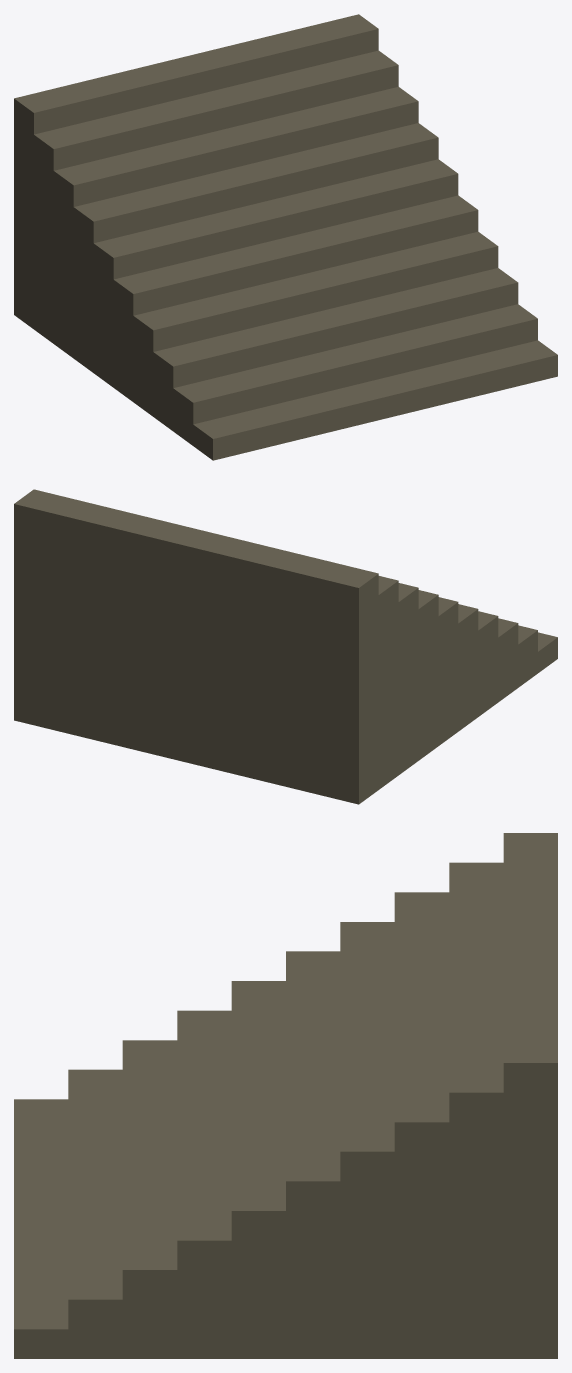
File: Stair.fbx
3 views of the same model, one above another, from view 1: azimuth 30°, elevation 25°; view 2: azimuth 150°, elevation 25°; view 3: azimuth 270°, elevation 25° (orthographic). The views are drawn at different scales.
Visible parts, largest first — view 1: Stair; view 2: Stair; view 3: Stair.
Part boxes in pixels (<box>): Stair: <box>14,14,557,460</box>; Stair: <box>14,489,557,804</box>; Stair: <box>14,833,557,1358</box>.
Bounding box in the file's own units: 500 × 300 × 500.
